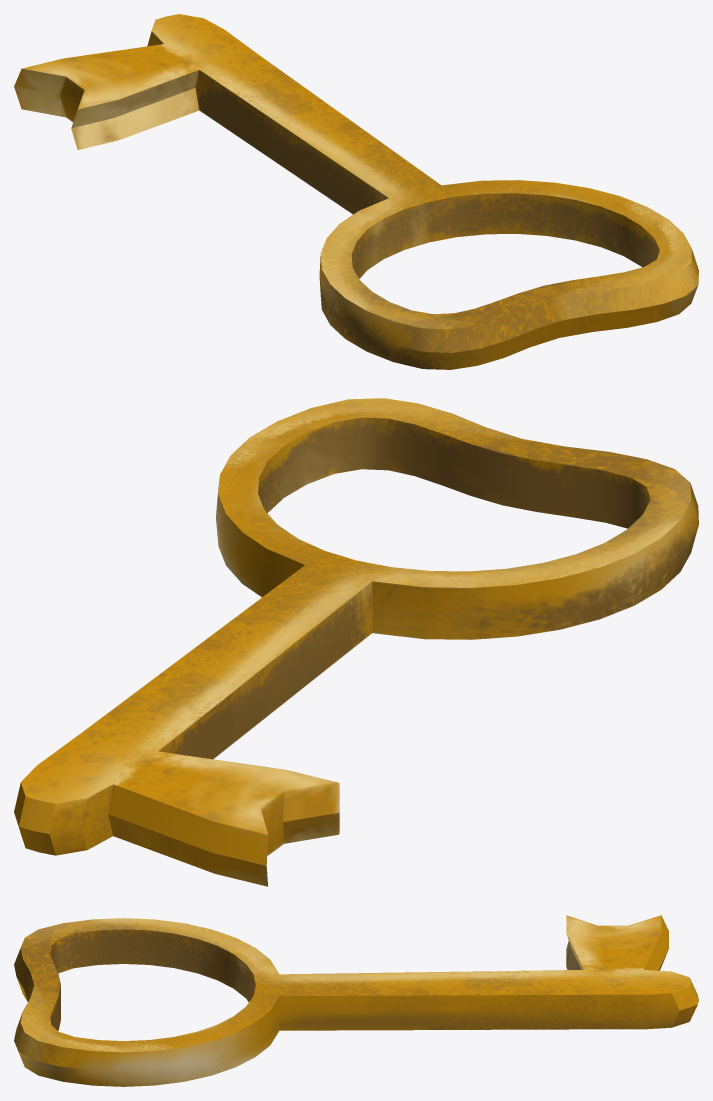
The model's file is Llave.fbx.
3 views of the same model, one above another, from view 1: azimuth 30°, elevation 25°; view 2: azimuth 150°, elevation 25°; view 3: azimuth 270°, elevation 25° (orthographic). The views are drawn at different scales.
Parts seen in each view (by area): view 1: Circle; view 2: Circle; view 3: Circle.
Part boxes in pixels (x1,y1,x2,y2): Circle: (14, 14, 698, 369); Circle: (14, 398, 698, 886); Circle: (14, 915, 698, 1086).
Size of the model in its own units: 163 by 18.71 by 336.
